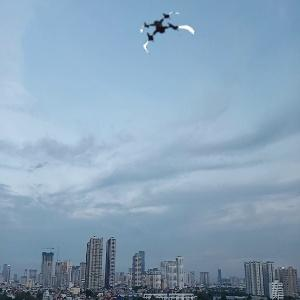drone: (136, 6, 190, 60)
